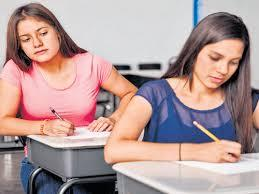student: (110, 12, 253, 168)
studentcopying: (1, 3, 124, 147)
